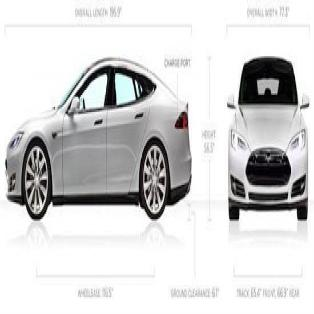Auto: (5, 55, 194, 228)
